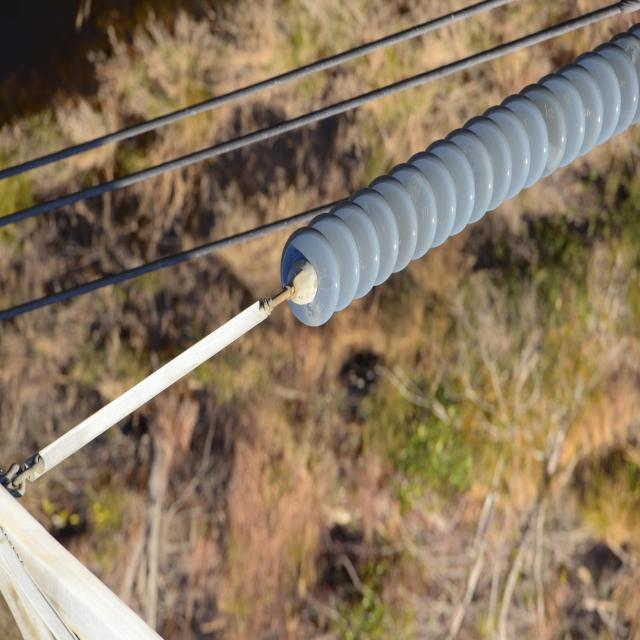insulator: (281, 23, 640, 327)
